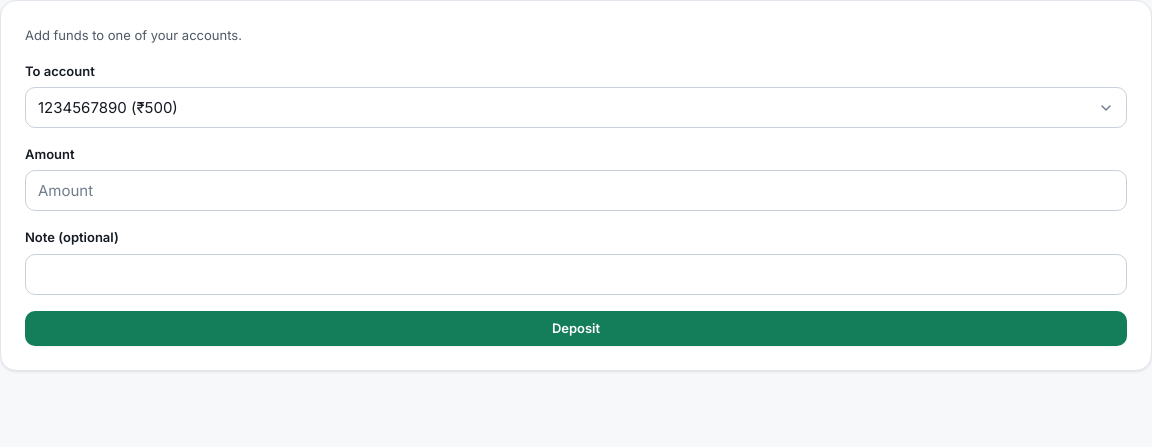
Test: DepositForm › a failed deposit shows the server error message and does not clear the form
Type "250" into the number field labelled "Amount".
click(576, 191); type("250")  # box top-left (25, 170), bottom-right (1127, 211)
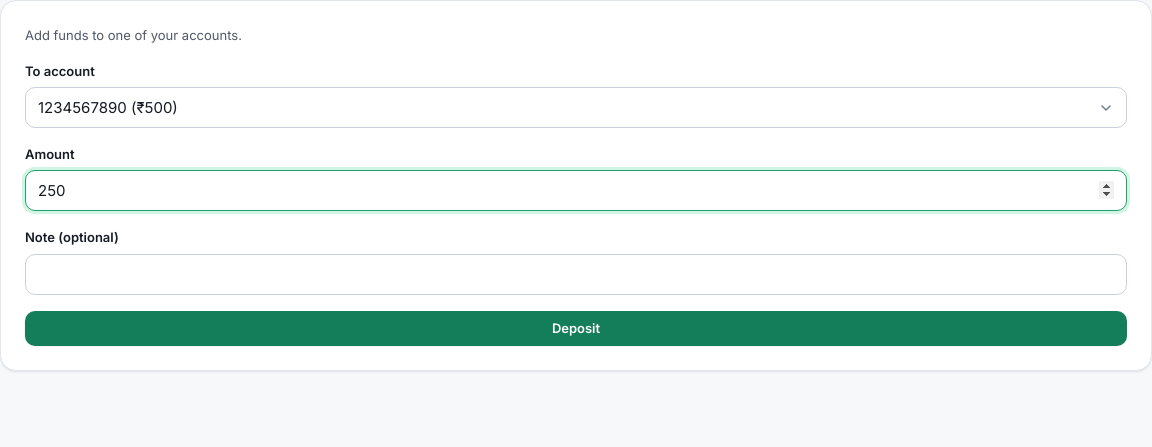
Click the button "Deposit".
click(576, 328)  # box top-left (25, 311), bottom-right (1127, 346)
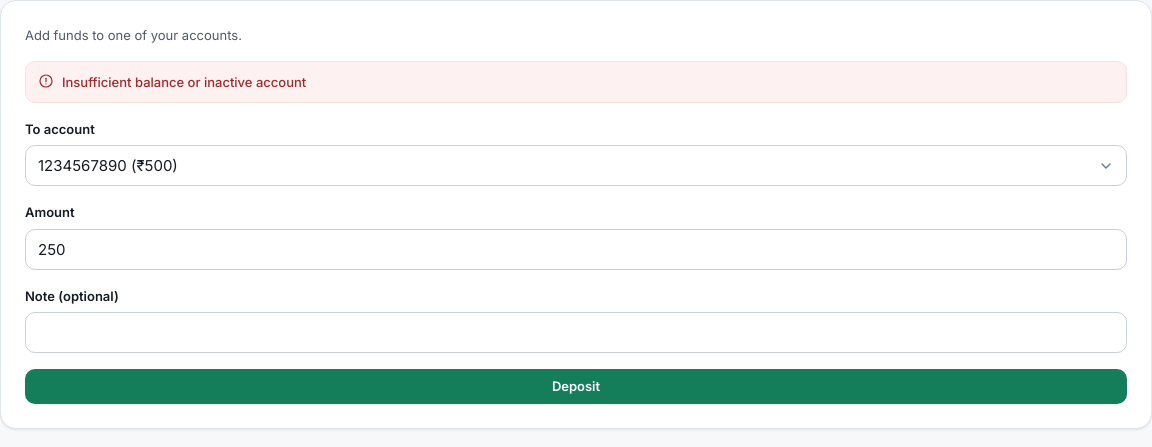
Now the text "Insufficient balance or inactive account" is shown, box top-left (25, 61), bottom-right (1127, 103)
